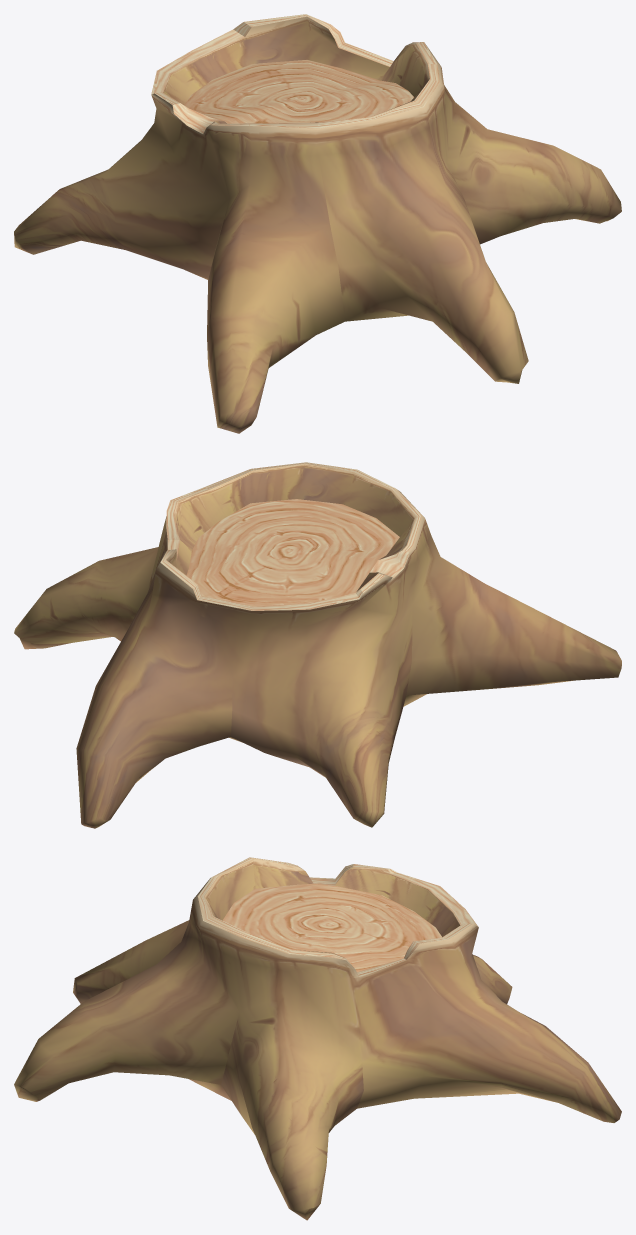
The model's file is SM_ENV_treetrunk_ancient_04.fbx.
3 views of the same model, one above another, from view 1: azimuth 30°, elevation 25°; view 2: azimuth 150°, elevation 25°; view 3: azimuth 270°, elevation 25° (orthographic). The views are drawn at different scales.
Visible parts, largest first — view 1: SM_ENV_treetrunk_ancient_04_LOD0; view 2: SM_ENV_treetrunk_ancient_04_LOD0; view 3: SM_ENV_treetrunk_ancient_04_LOD0.
Boxes of the visible parts, x1,y1,x2,y2 form: SM_ENV_treetrunk_ancient_04_LOD0: [14, 14, 621, 433]; SM_ENV_treetrunk_ancient_04_LOD0: [14, 462, 621, 828]; SM_ENV_treetrunk_ancient_04_LOD0: [14, 857, 621, 1220].
Size of what is drawn, in the model's own units: 207 by 85.89 by 232.
